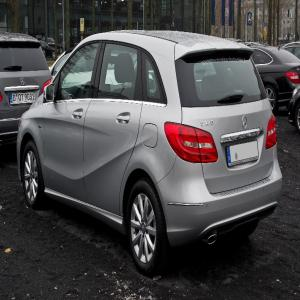Vehicle-registration-plate: (227, 141, 260, 167), (11, 92, 35, 104)
